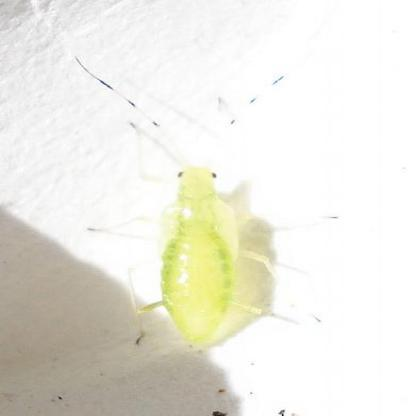aphid: (76, 62, 336, 359)
